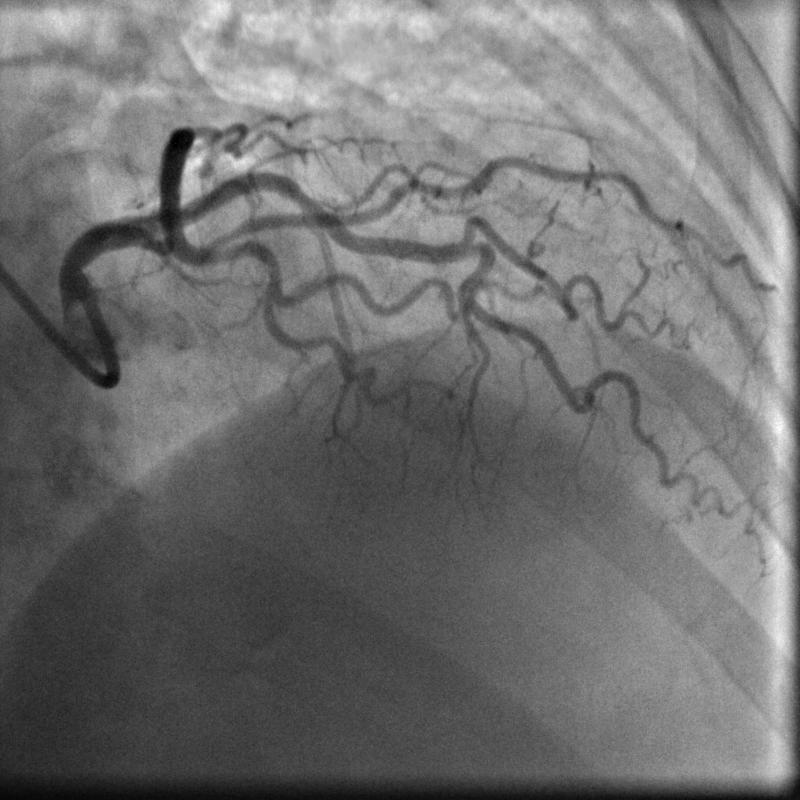Stenosis: (151, 216, 179, 254)
